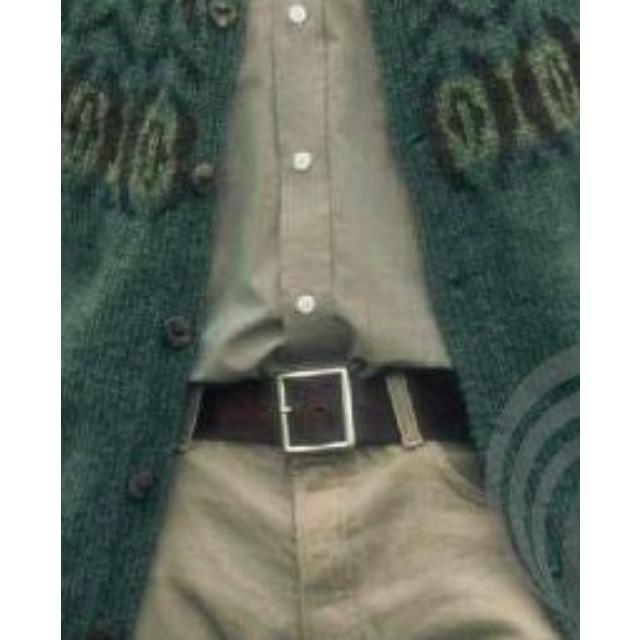wool: (61, 1, 580, 373)
